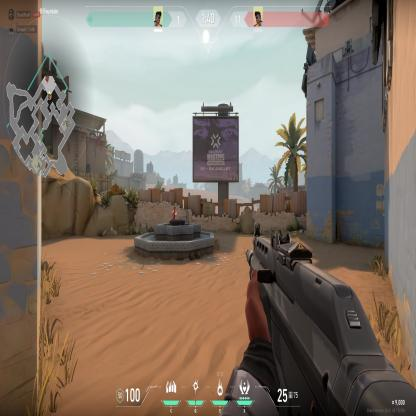enemy: (171, 206, 177, 220)
